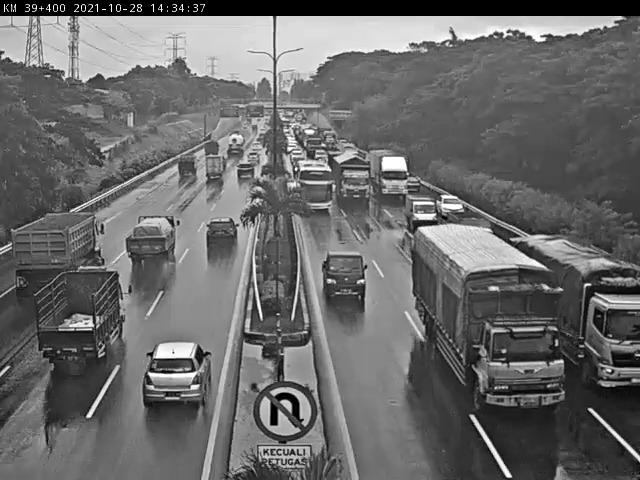big bus: (293, 161, 333, 213)
big truck: (409, 224, 566, 415), (512, 230, 640, 377), (14, 212, 106, 296), (332, 153, 373, 205), (371, 150, 412, 200)
car: (142, 342, 213, 409), (321, 250, 368, 298), (407, 194, 437, 231), (205, 219, 240, 249), (438, 191, 465, 220), (235, 163, 256, 184), (244, 151, 261, 168)
small truck: (35, 266, 130, 367), (124, 214, 183, 267), (205, 155, 227, 182), (178, 154, 198, 181), (201, 139, 222, 161)
